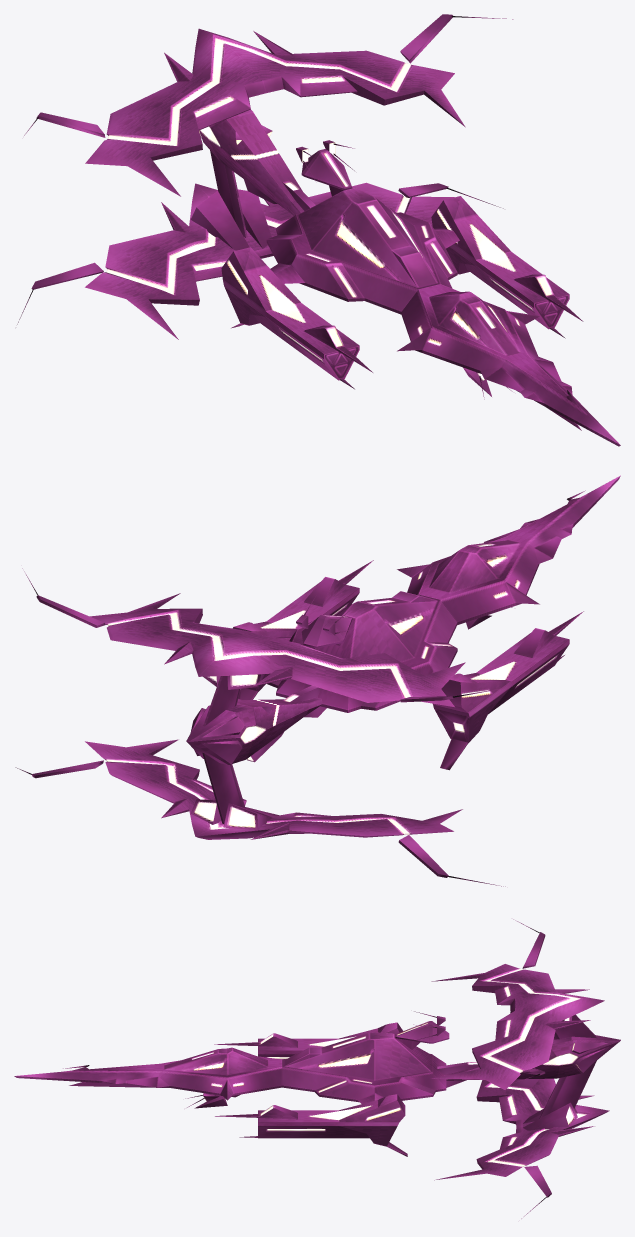
The picture shows the model from 3 angles, top to bottom: view 1: azimuth 30°, elevation 25°; view 2: azimuth 150°, elevation 25°; view 3: azimuth 270°, elevation 25°; orthographic projection. The views are drawn at different scales.
Parts seen in each view (by area): view 1: body; view 2: body; view 3: body.
Boxes of the visible parts, x1,y1,x2,y2 form: body: [17, 14, 620, 446]; body: [15, 475, 620, 886]; body: [14, 919, 620, 1218].
Size of the model in its own units: 275 by 107 by 417.
1 material, 1 textured.
